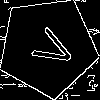V: (23, 21, 79, 73)
